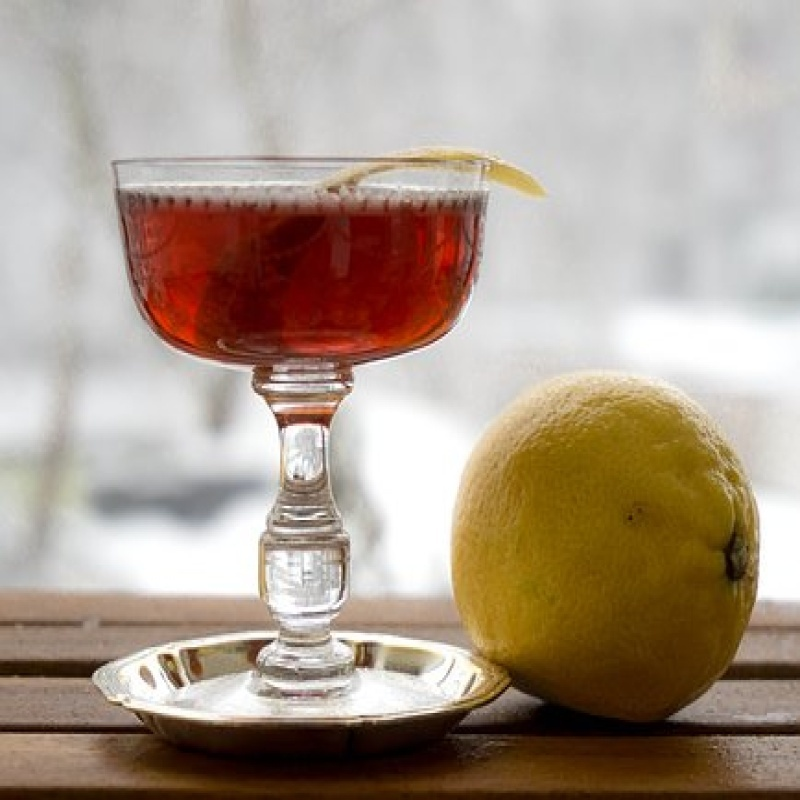whiskey: (100, 153, 484, 391)
